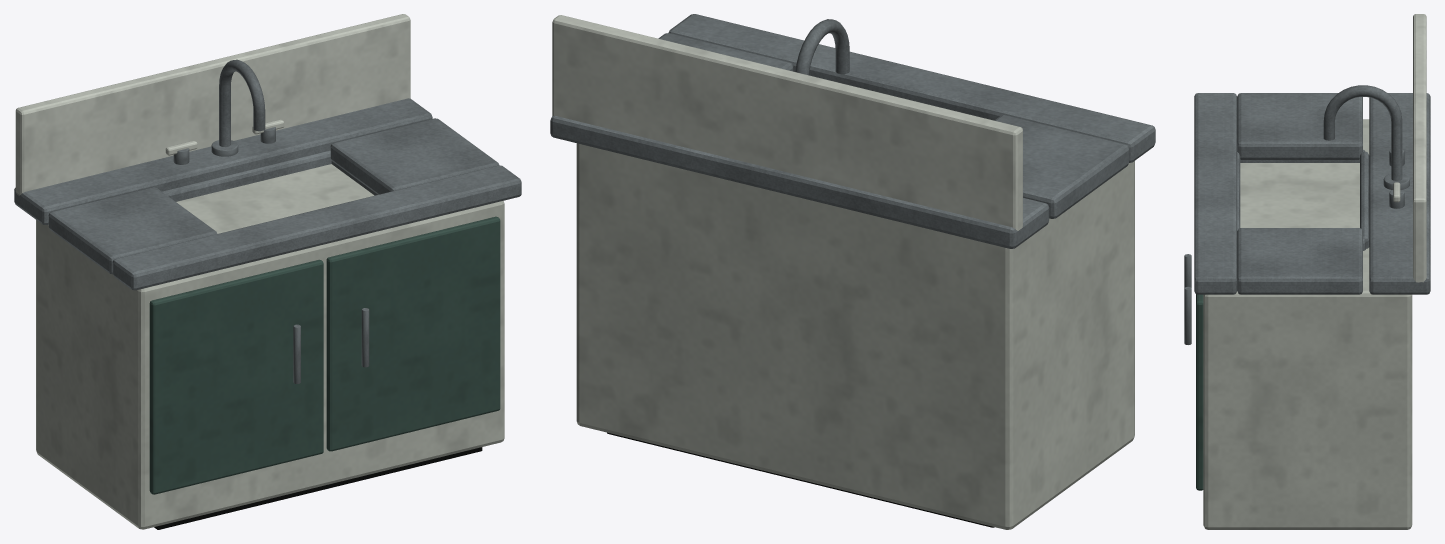
The model's file is Lab_Sink.fbx.
The picture shows the model from 3 angles, left to right: view 1: azimuth 30°, elevation 25°; view 2: azimuth 150°, elevation 25°; view 3: azimuth 270°, elevation 25°; orthographic projection. The views are drawn at different scales.
Visible parts, largest first — view 1: Lab_Sink_prop; view 2: Lab_Sink_prop; view 3: Lab_Sink_prop.
Boxes of the visible parts, x1,y1,x2,y2 form: Lab_Sink_prop: [14, 14, 521, 529]; Lab_Sink_prop: [550, 14, 1155, 529]; Lab_Sink_prop: [1184, 14, 1430, 529].
Size of the model in its own units: 1.44 by 1.31 by 0.802.
Materials: 5 (5 with a texture image).
